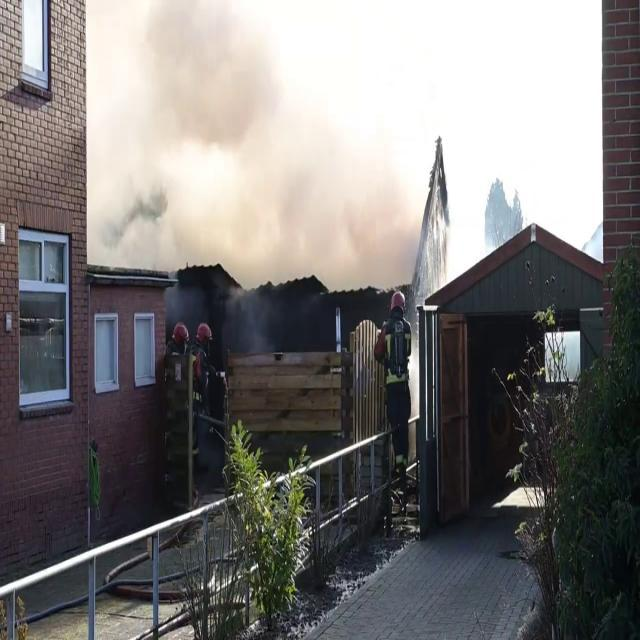Smoke: (87, 0, 416, 274)
